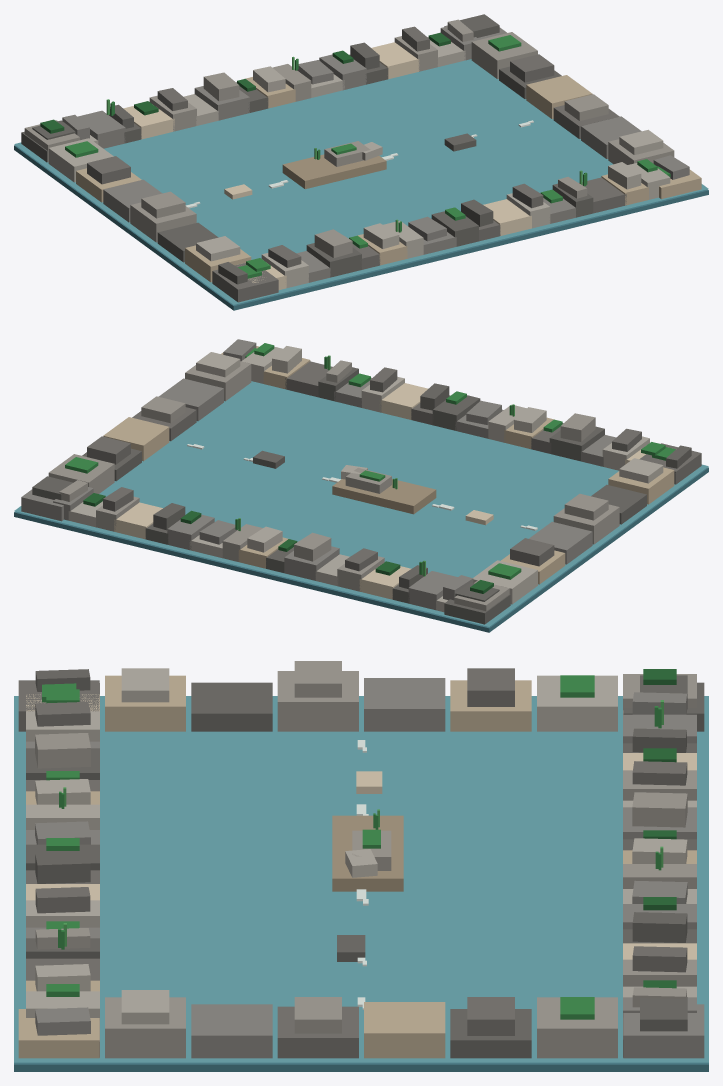
Rendered from vn_river_10x8.glb.
3 renders of one model, top to bottom at view 1: azimuth 30°, elevation 25°; view 2: azimuth 150°, elevation 25°; view 3: azimuth 270°, elevation 25°, orthographic. The views are drawn at different scales.
Parts seen in each view (by area): view 1: WaterSurface.002, WaterBed.002, Center.002, EdgeNZ_4.001, EdgePZ_2.002, EdgePZ_6, EdgePZ_4.001, EdgeNZ_6, EdgePZ_8, EdgeNX_4, EdgeNZ_5.001, EdgeNZ_7 (+27 smaller); view 2: WaterSurface.002, WaterBed.002, Center.002, EdgeNZ_4.001, EdgePZ_2.002, EdgePZ_6, EdgePZ_4.001, EdgeNZ_6, EdgePZ_8, EdgeNZ_5.001, EdgeNX_4, EdgeNZ_7 (+26 smaller); view 3: WaterSurface.002, Center.002, WaterBed.002, EdgeNX_4, EdgePX_6, EdgePX_1.002, EdgeNX_6, EdgeNX_2.002, EdgePX_4, EdgePX_2.002, EdgePX_3.001, EdgeNX_1.002 (+27 smaller).
Part boxes in pixels (x1=…): WaterSurface.002: x1=14, y1=59, x2=708, y2=304; WaterBed.002: x1=14, y1=145, x2=708, y2=310; Center.002: x1=185, y1=120, x2=533, y2=208; EdgeNZ_4.001: x1=194, y1=72, x2=268, y2=120; EdgePZ_2.002: x1=306, y1=229, x2=380, y2=277; EdgePZ_6: x1=483, y1=183, x2=550, y2=236; EdgePZ_4.001: x1=408, y1=207, x2=478, y2=254; EdgeNZ_6: x1=297, y1=50, x2=366, y2=97; EdgePZ_8: x1=579, y1=162, x2=648, y2=213; EdgeNX_4: x1=130, y1=191, x2=196, y2=242; EdgeNZ_5.001: x1=244, y1=56, x2=311, y2=108; EdgeNZ_7: x1=349, y1=42, x2=419, y2=84; WaterSurface.002: x1=14, y1=381, x2=708, y2=626; WaterBed.002: x1=14, y1=467, x2=708, y2=632; Center.002: x1=187, y1=444, x2=537, y2=530; EdgeNZ_4.001: x1=266, y1=532, x2=339, y2=580; EdgePZ_2.002: x1=531, y1=413, x2=604, y2=461; EdgePZ_6: x1=361, y1=367, x2=427, y2=419; EdgePZ_4.001: x1=432, y1=391, x2=503, y2=438; EdgeNZ_6: x1=167, y1=510, x2=238, y2=558; EdgePZ_8: x1=263, y1=346, x2=332, y2=397; EdgeNZ_5.001: x1=222, y1=518, x2=288, y2=568; EdgeNX_4: x1=553, y1=493, x2=619, y2=544; EdgeNZ_7: x1=114, y1=502, x2=185, y2=544; WaterSurface.002: x1=14, y1=696, x2=708, y2=1062; Center.002: x1=332, y1=740, x2=403, y2=1009; WaterBed.002: x1=14, y1=1062, x2=708, y2=1071; EdgeNX_4: x1=277, y1=661, x2=358, y2=731; EdgePX_6: x1=105, y1=990, x2=185, y2=1058; EdgePX_1.002: x1=537, y1=997, x2=617, y2=1058; EdgeNX_6: x1=105, y1=668, x2=185, y2=731; EdgeNX_2.002: x1=450, y1=668, x2=531, y2=731; EdgePX_4: x1=277, y1=997, x2=358, y2=1058; EdgePX_2.002: x1=450, y1=997, x2=531, y2=1058; EdgePX_3.001: x1=364, y1=1002, x2=445, y2=1058; EdgeNX_1.002: x1=537, y1=675, x2=617, y2=731.
Bounding box in the file's own units: 6.7 × 0.558 × 5.36.
